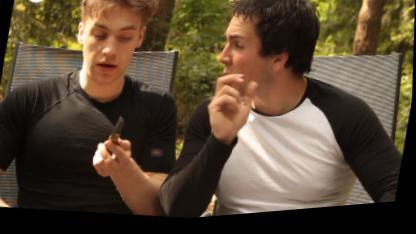knife: (83, 107, 141, 180)
